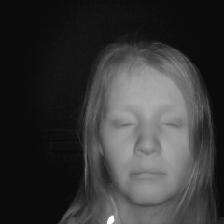normal: (81, 37, 219, 209)
